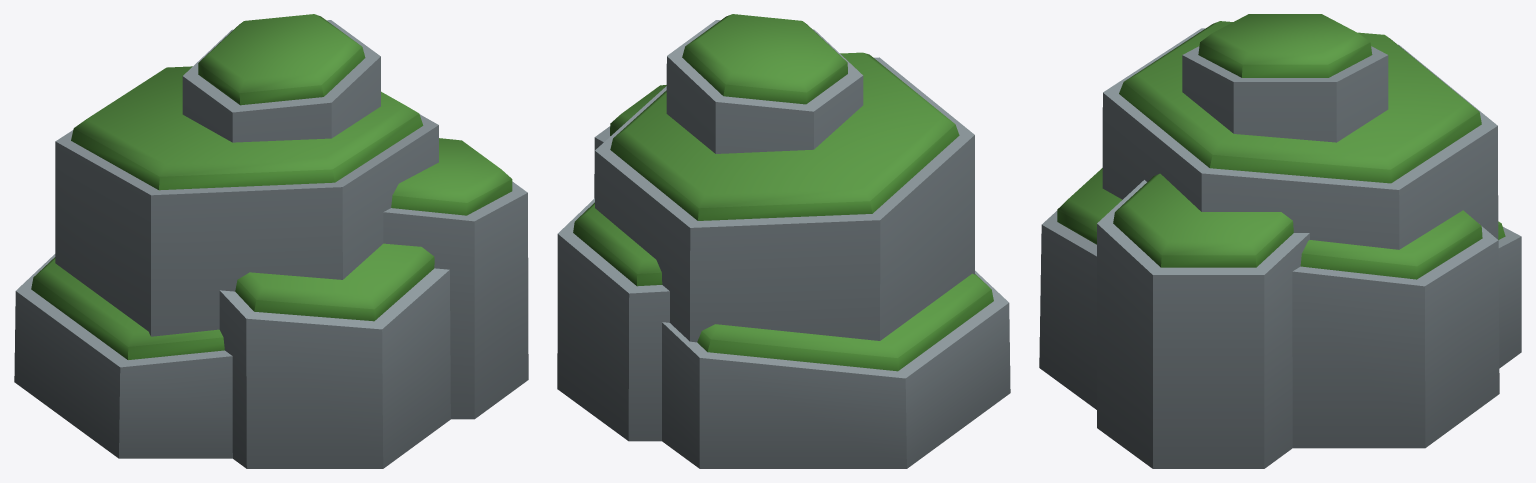
File: alpine_mountain_a.glb
The picture shows the model from 3 angles, left to right: view 1: azimuth 30°, elevation 25°; view 2: azimuth 150°, elevation 25°; view 3: azimuth 270°, elevation 25°; orthographic projection. The views are drawn at different scales.
Parts seen in each view (by area): view 1: alpine_mountain_a; view 2: alpine_mountain_a; view 3: alpine_mountain_a.
Part boxes in pixels (x1,y1,x2,y2): alpine_mountain_a: (14,14,528,468); alpine_mountain_a: (557,14,1010,468); alpine_mountain_a: (1039,14,1521,468).
Bounding box in the file's own units: 19.2 × 16 × 20.
1 material, 1 textured.
